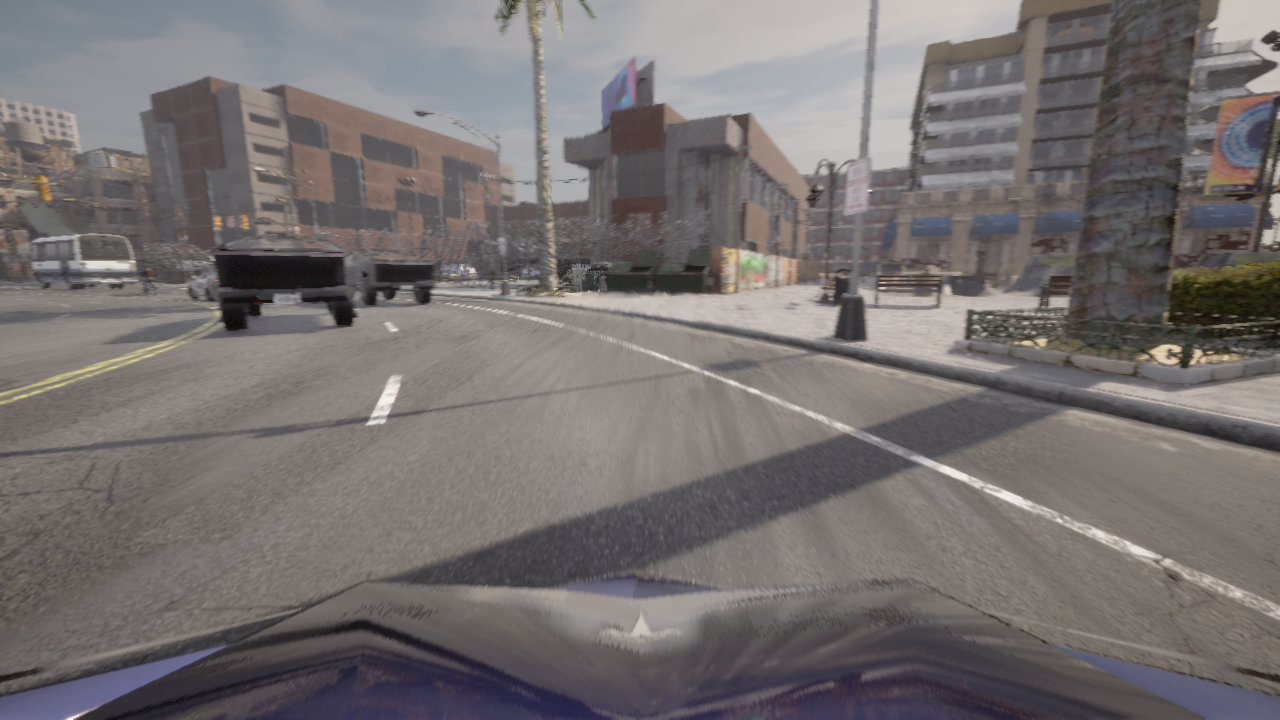cyclist: (0, 569, 1279, 719), (212, 237, 357, 331), (20, 234, 137, 289), (345, 251, 434, 305), (187, 267, 217, 301), (587, 260, 625, 280), (440, 263, 476, 280), (435, 271, 459, 282), (486, 273, 519, 281), (522, 264, 538, 279), (567, 263, 590, 272), (143, 281, 156, 295), (561, 271, 572, 280), (14, 275, 18, 282)
